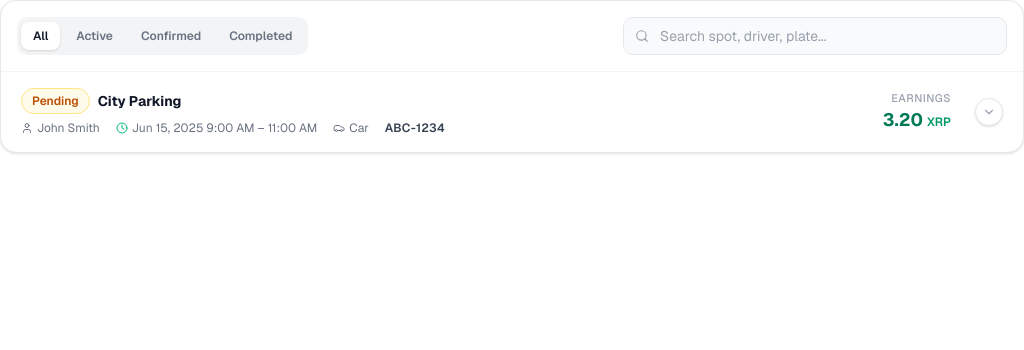
Test: BookingList Component › Row Click - Expand/Collapse › click row shows expanded details
This screenshot has width=1024, height=350.
Click the heading "City Parking" at (140, 101), box [98,91,182,111]
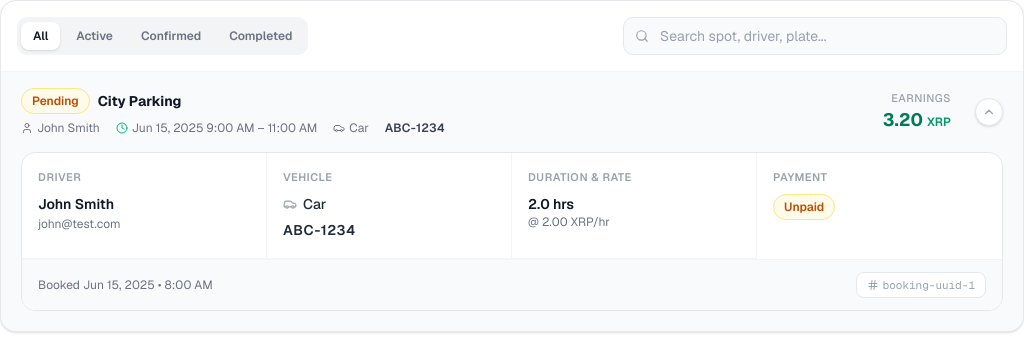
Check: the text "Driver" is shown, box [38,170,82,184]
Check: the text "john@test.com" is shown, box [38,216,120,232]
